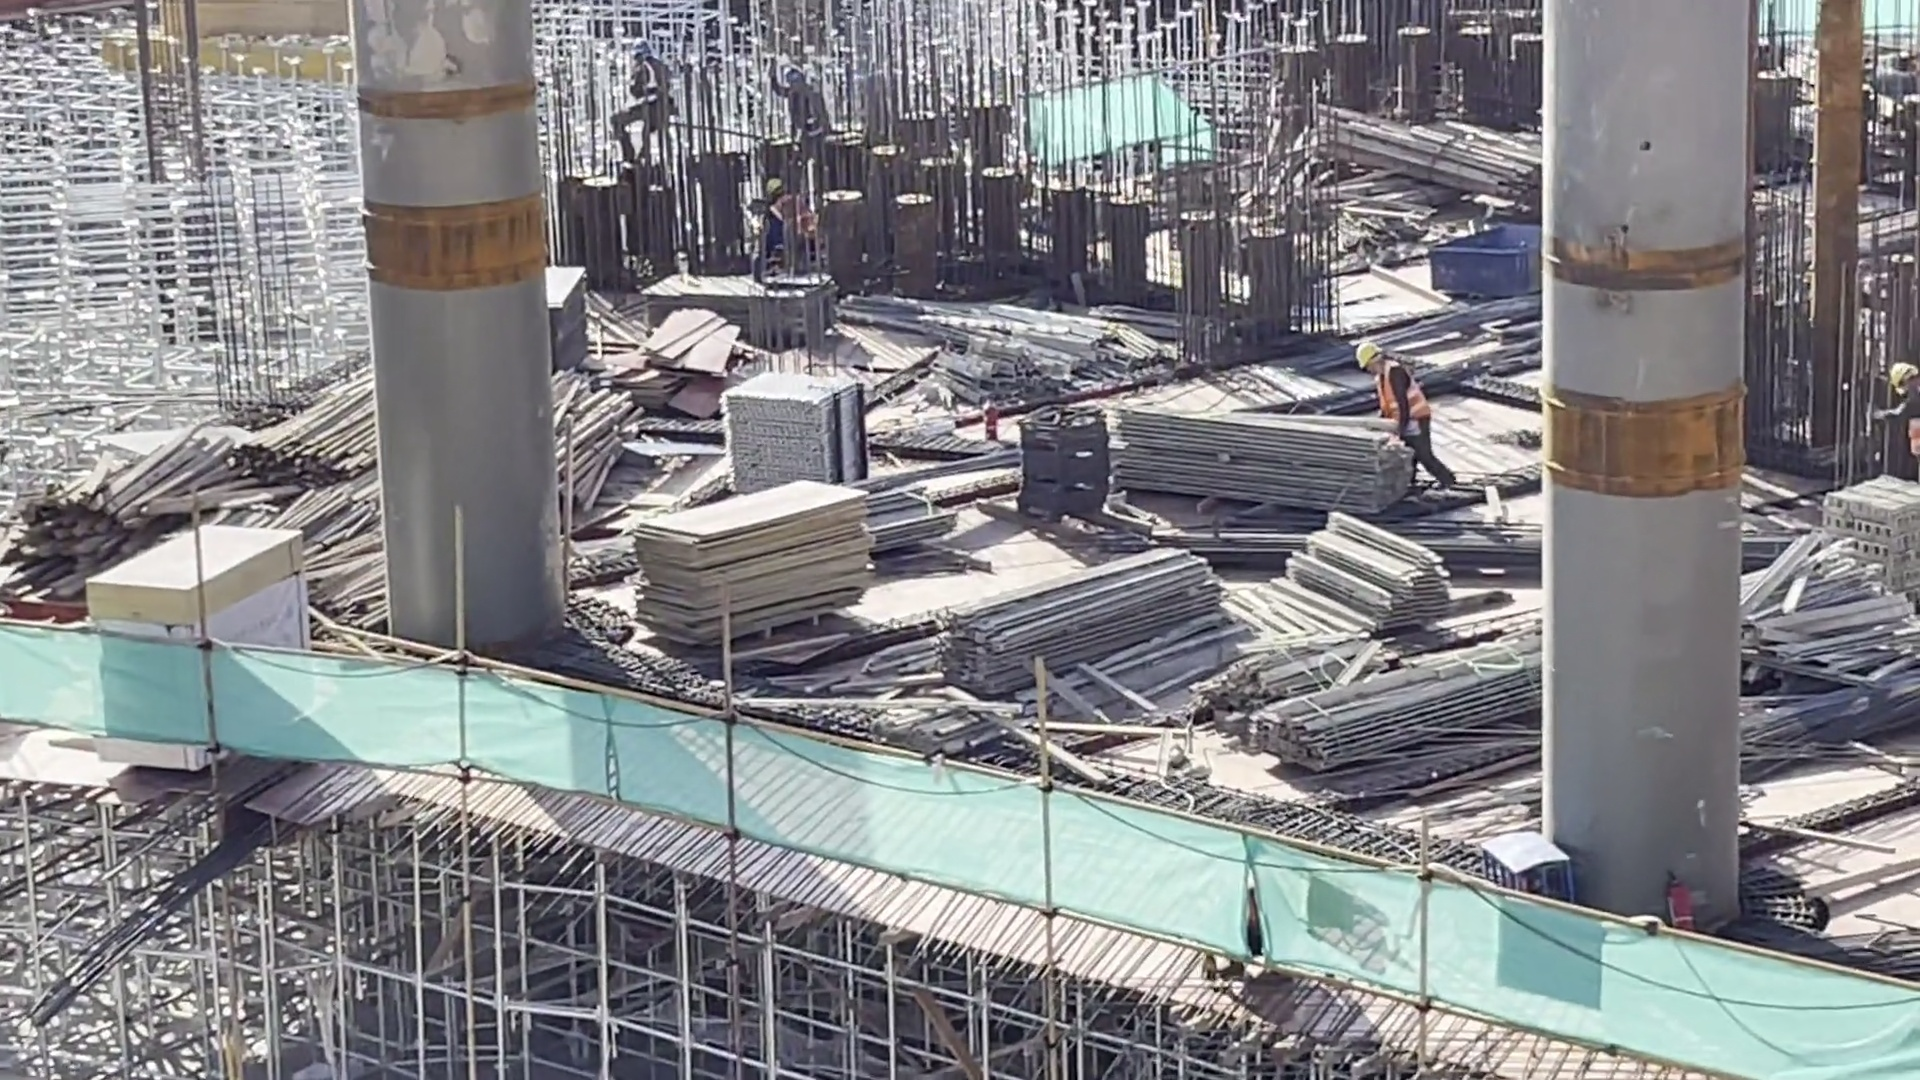board: (633, 483, 870, 630)
ebox: (86, 500, 332, 800)
helmet: (1351, 332, 1388, 369)
hopper: (1426, 202, 1552, 308)
person: (1328, 324, 1448, 520), (610, 37, 684, 171), (737, 175, 815, 274)
scaffold: (725, 354, 870, 493)
vest: (1367, 360, 1432, 438)
wood: (938, 548, 1217, 704), (1265, 648, 1533, 801), (1097, 397, 1422, 522), (1277, 493, 1456, 649)
